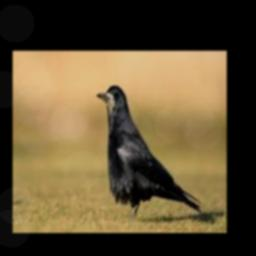Crow: (96, 85, 203, 221)
